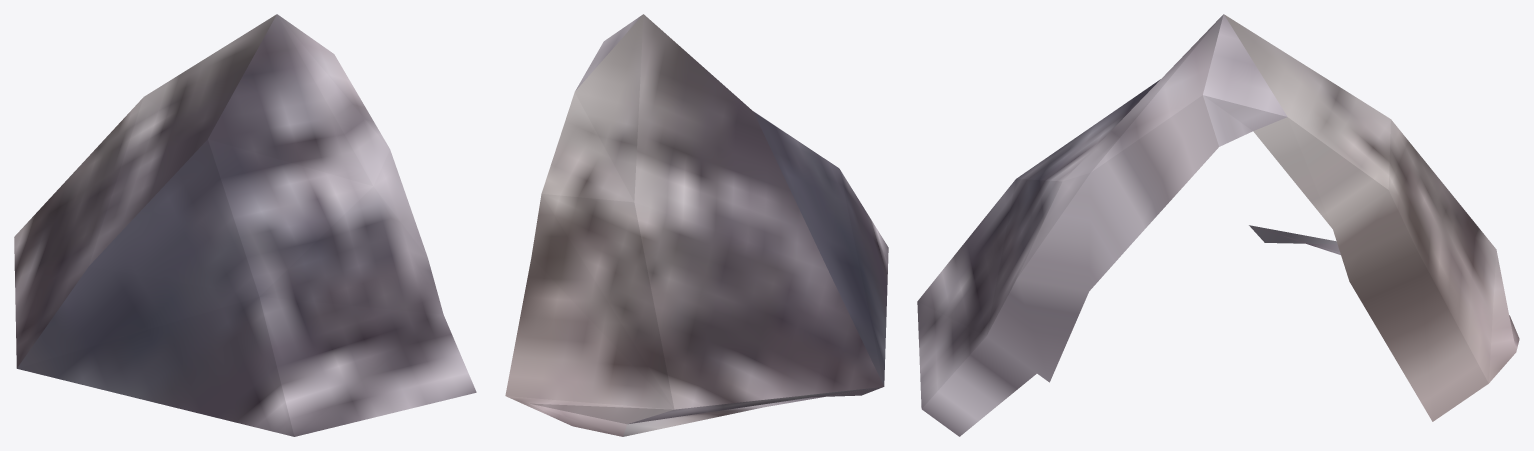
The picture shows the model from 3 angles, left to right: view 1: azimuth 30°, elevation 25°; view 2: azimuth 150°, elevation 25°; view 3: azimuth 270°, elevation 25°; orthographic projection. The views are drawn at different scales.
Visible parts, largest first — view 1: Mesh_0; view 2: Mesh_0; view 3: Mesh_0.
Boxes of the visible parts, x1=… form: Mesh_0: x1=14, y1=14, x2=476, y2=436; Mesh_0: x1=505, y1=14, x2=888, y2=436; Mesh_0: x1=917, y1=14, x2=1519, y2=436.
Bounding box in the file's own units: 6.49 × 6.46 × 8.99.
Materials: 1 (1 with a texture image).
